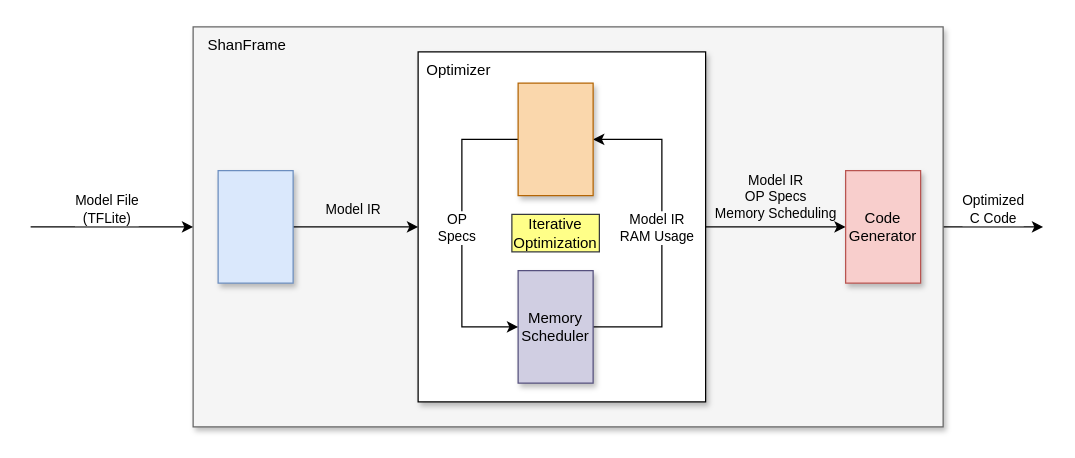
Some shapes in this 1075 by 458 pixel diagram are drawn without their labels. The shapes that lost their labels are listed below. From the top down, each one's centre as x and y in pixels, then its label:
the point at 556,140: Model Optimizer
the point at 256,228: Model Parser
